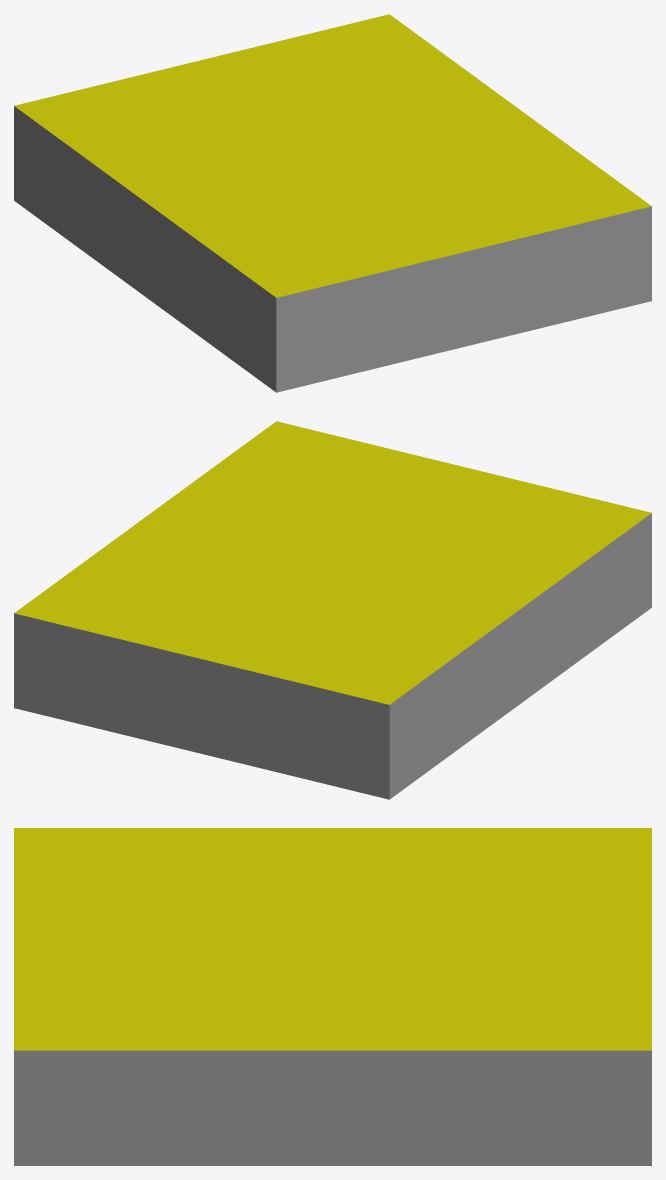
Rendered from Ground_Multiplier_E.fbx.
The picture shows the model from 3 angles, top to bottom: view 1: azimuth 30°, elevation 25°; view 2: azimuth 150°, elevation 25°; view 3: azimuth 270°, elevation 25°; orthographic projection. The views are drawn at different scales.
Parts seen in each view (by area): view 1: Ground_Multiplier_E; view 2: Ground_Multiplier_E; view 3: Ground_Multiplier_E.
Boxes of the visible parts, x1=… form: Ground_Multiplier_E: x1=14, y1=14, x2=651, y2=392; Ground_Multiplier_E: x1=14, y1=421, x2=651, y2=799; Ground_Multiplier_E: x1=14, y1=828, x2=651, y2=1165.
Bounding box in the file's own units: 135 × 32.46 × 163.
